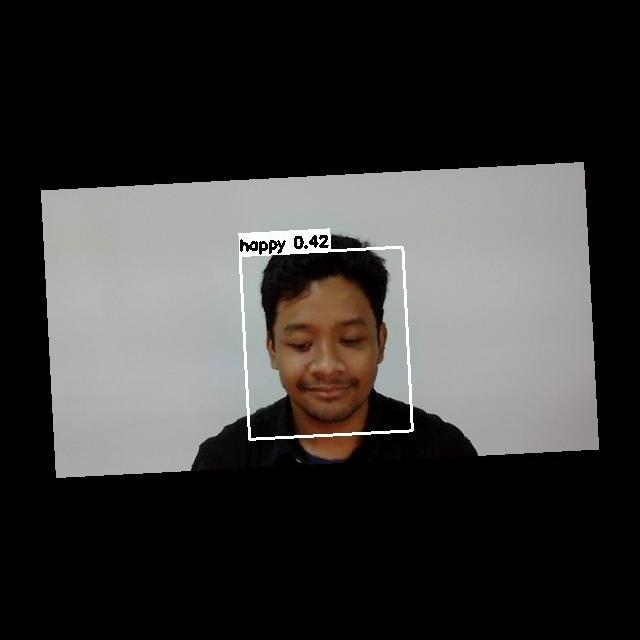Happy: (271, 310, 382, 407)
